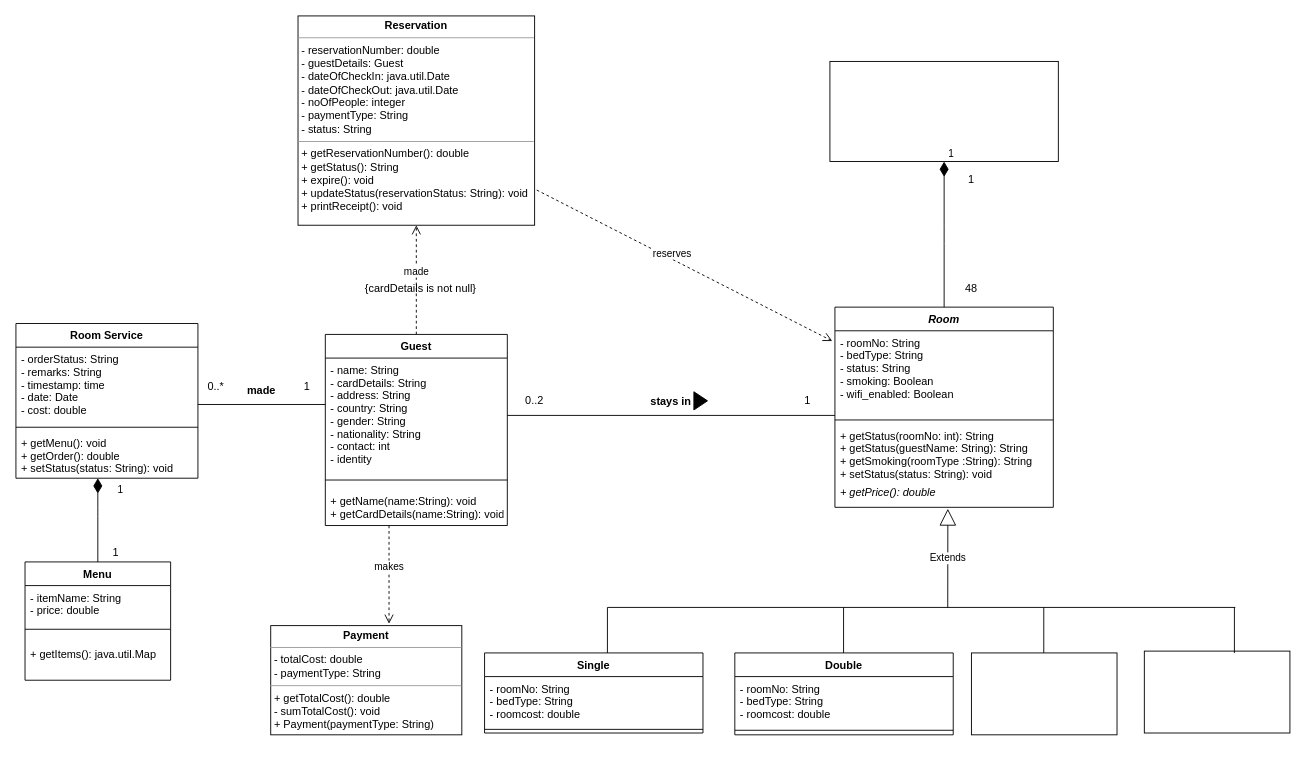
Some shapes in this 1306 by 758 pixel diagram are drawn without their labels. Here are the shapes that lost their labels. From the top down, the centre of each, then its label:
At [943,111]: "Hotel -roomList: Room[] + getAvailableRoomList(): Room[] + printReport(): void".
At [1044,693]: "VIP Suite - roomNo: String - bedType: String - roomcost: double".
At [1216,691]: "Deluxe - roomNo: String - bedType: String - roomcost: double".
